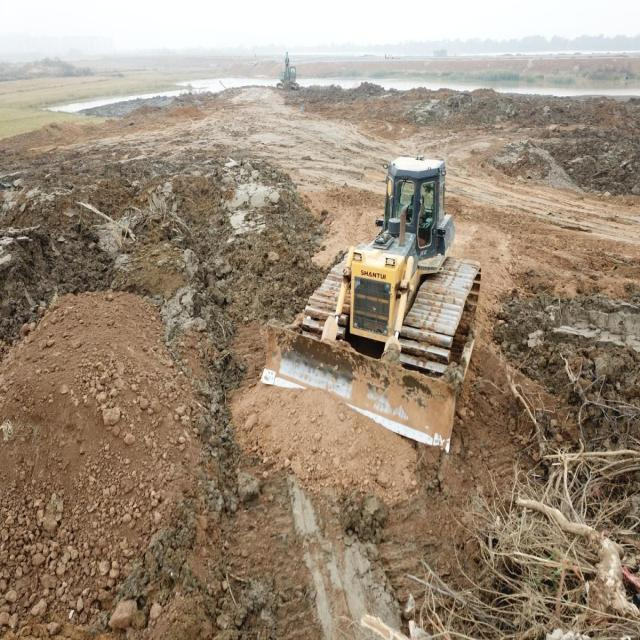excavator: (272, 48, 306, 98)
machinery: (249, 148, 492, 469)
